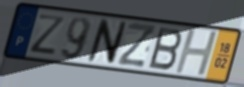9: (59, 15, 95, 61)
B: (147, 25, 184, 72)
H: (173, 29, 220, 77)
N: (85, 17, 129, 67)
Z: (115, 20, 158, 69), (29, 13, 68, 57)
